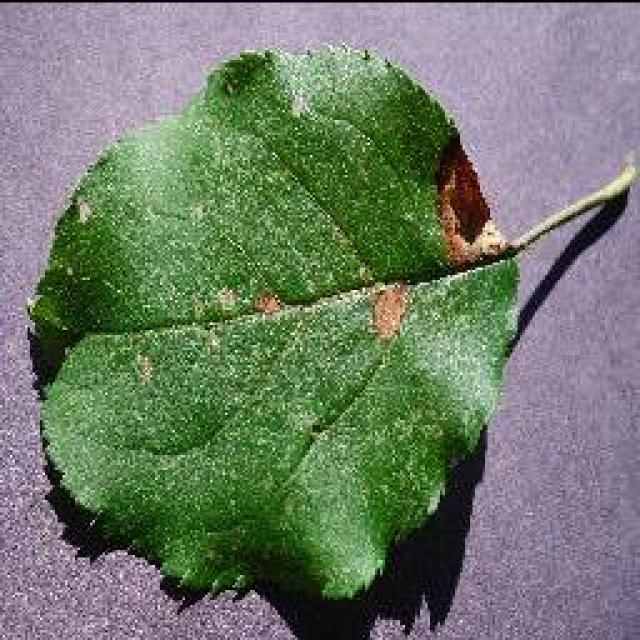Black_rot: (25, 40, 637, 602), (35, 252, 523, 602)
